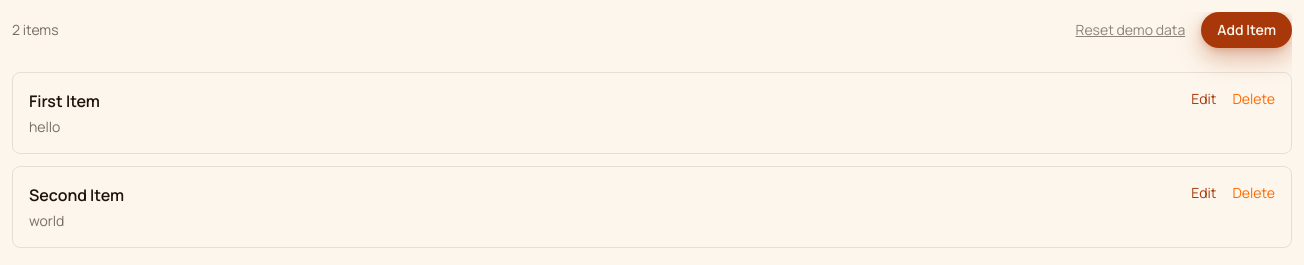
Scenario: ResourceManager › resets back to the initial items after edits
This screenshot has width=1304, height=265.
Step 1. Click the button "Delete" in the row of "First Item" → (1254, 99), box x1=1232 y1=89 x2=1275 y2=109
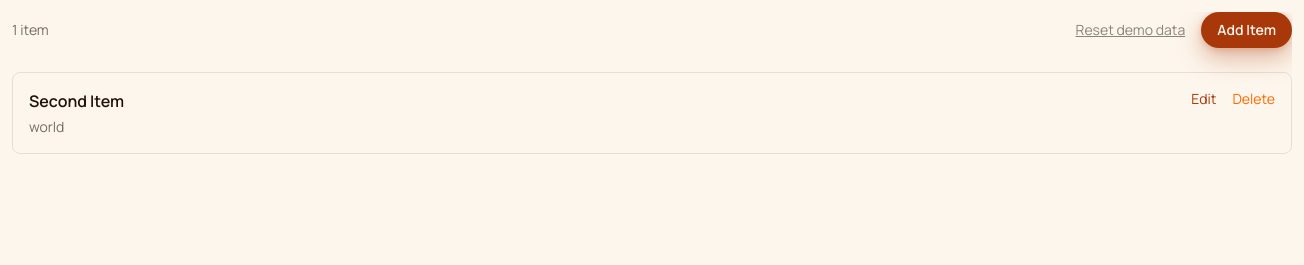
Now the text "1 item" is shown, box x1=12 y1=20 x2=49 y2=40
Step 2. Click the button "Reset demo data" → (1130, 30), box x1=1076 y1=12 x2=1185 y2=48
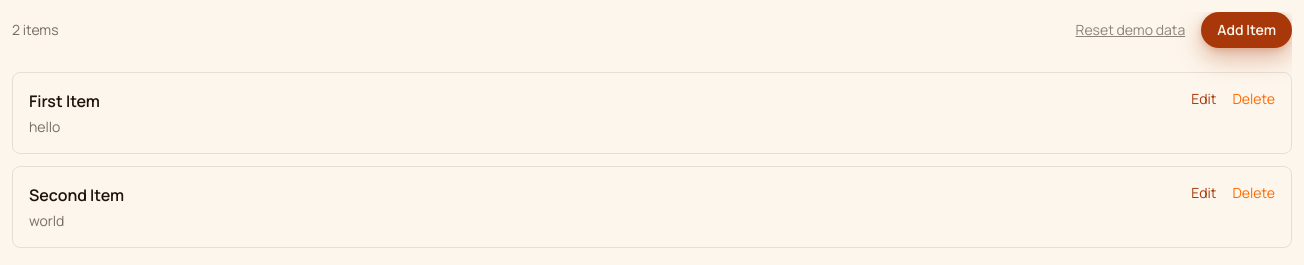
Now the text "First Item" is shown, box x1=29 y1=89 x2=100 y2=113
Now the text "2 items" is shown, box x1=12 y1=20 x2=59 y2=40
